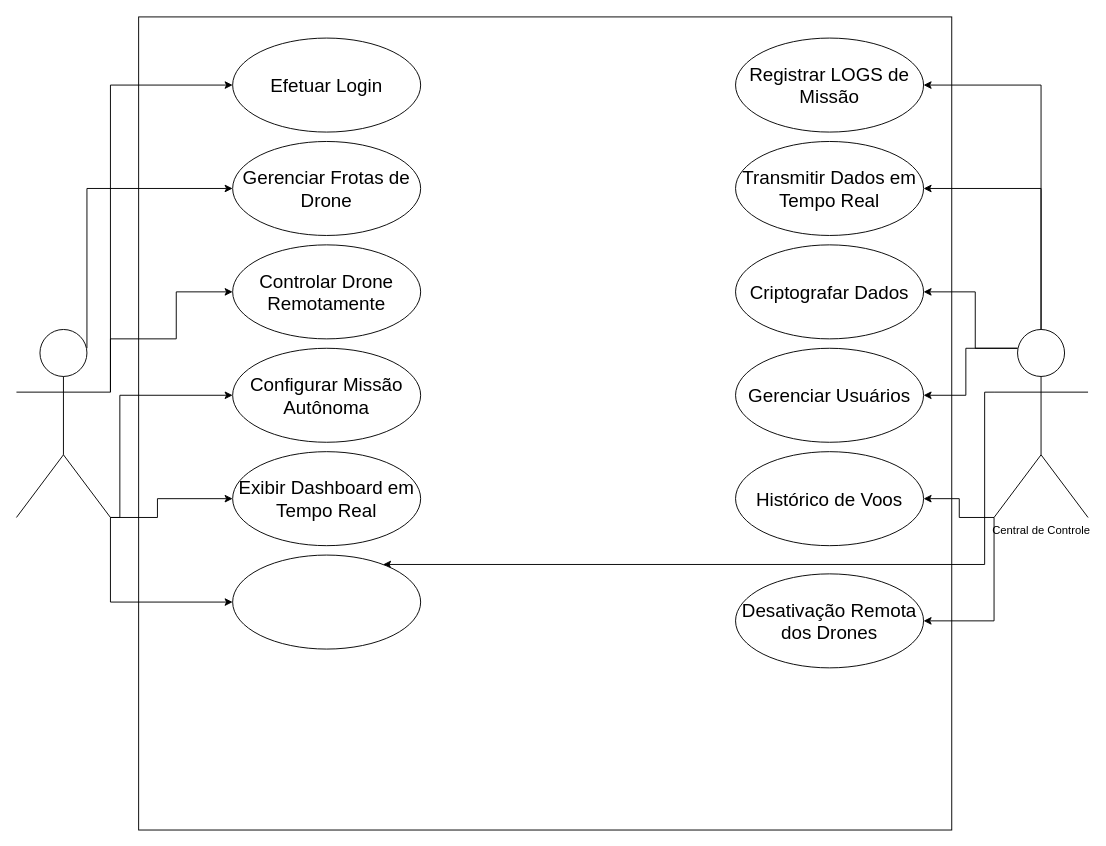
Image size: 1106x846. Some labels were removed from this diagram. The centre of each missing label's shape, as x and y in pixels:
"Finalizar Sessão" belongs at point (326, 601).
"Operador Militar" belongs at point (63, 423).
